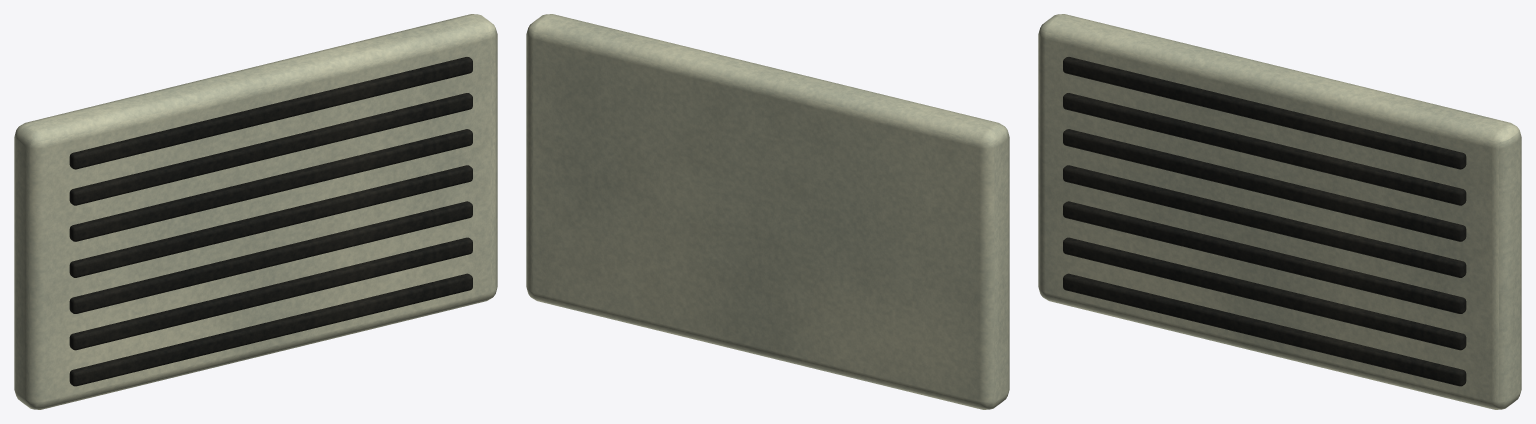
Rendered from Vent.fbx.
The picture shows the model from 3 angles, left to right: view 1: azimuth 30°, elevation 25°; view 2: azimuth 150°, elevation 25°; view 3: azimuth 330°, elevation 25°; orthographic projection.
Parts seen in each view (by area): view 1: Vent_Enamel, Vent_Iron; view 2: Vent_Enamel; view 3: Vent_Enamel, Vent_Iron.
Boxes of the visible parts, left/top/right/bottom form: Vent_Enamel: left=14, top=14, right=497, bottom=409; Vent_Iron: left=69, top=57, right=472, bottom=386; Vent_Enamel: left=526, top=14, right=1009, bottom=409; Vent_Enamel: left=1038, top=14, right=1521, bottom=409; Vent_Iron: left=1063, top=57, right=1466, bottom=386.
Size of the model in its own units: 30 by 17 by 3.25.
